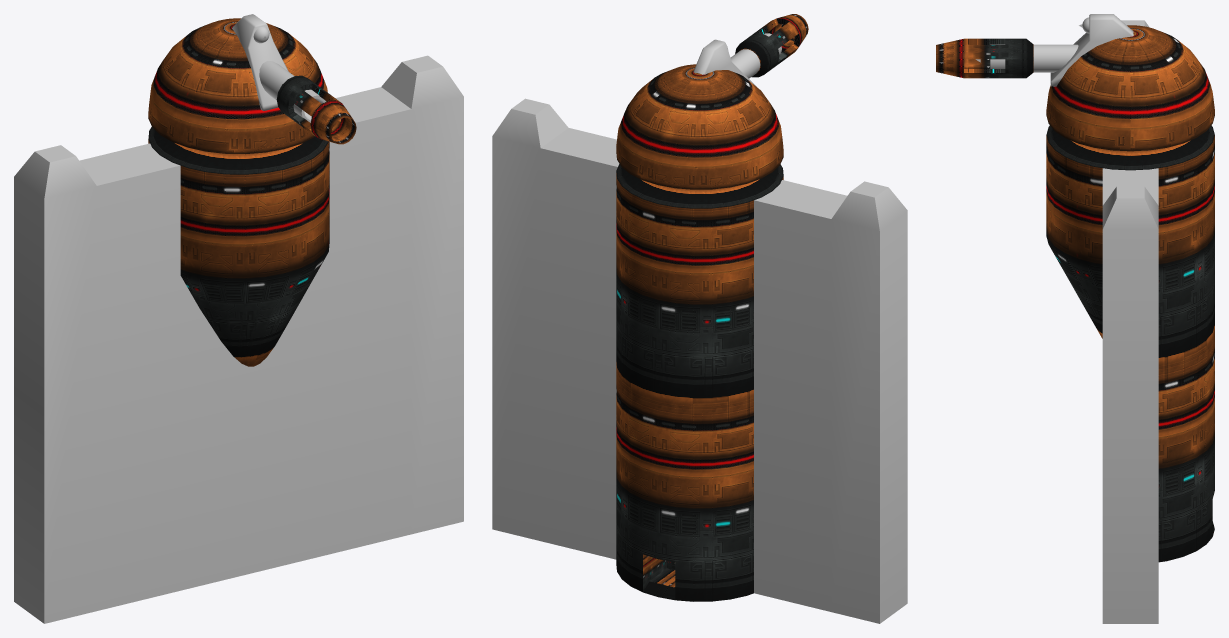
The model's file is ibgtoww00.FBX.
3 renders of one model, left to right at view 1: azimuth 30°, elevation 25°; view 2: azimuth 150°, elevation 25°; view 3: azimuth 270°, elevation 25°, orthographic. The views are drawn at different scales.
Visible parts, largest first — view 1: ibgtoww00, turret_y_1, recoil_1, turret_x_1; view 2: ibgtoww00, turret_y_1, recoil_1, turret_x_1; view 3: ibgtoww00, turret_y_1, recoil_1, turret_x_1.
Part boxes in pixels (<box>): ibgtoww00: <box>14,55,463,623</box>; turret_y_1: <box>148,18,327,154</box>; recoil_1: <box>276,75,356,144</box>; turret_x_1: <box>232,14,326,122</box>; ibgtoww00: <box>492,98,907,623</box>; turret_y_1: <box>616,64,783,189</box>; recoil_1: <box>735,14,808,77</box>; turret_x_1: <box>693,33,781,86</box>; ibgtoww00: <box>1046,20,1214,623</box>; turret_y_1: <box>1046,25,1214,151</box>; recoil_1: <box>936,38,1033,78</box>; turret_x_1: <box>990,14,1133,86</box>.
Size of what is drawn, in the model's own units: 32 by 19.87 by 40.33.
